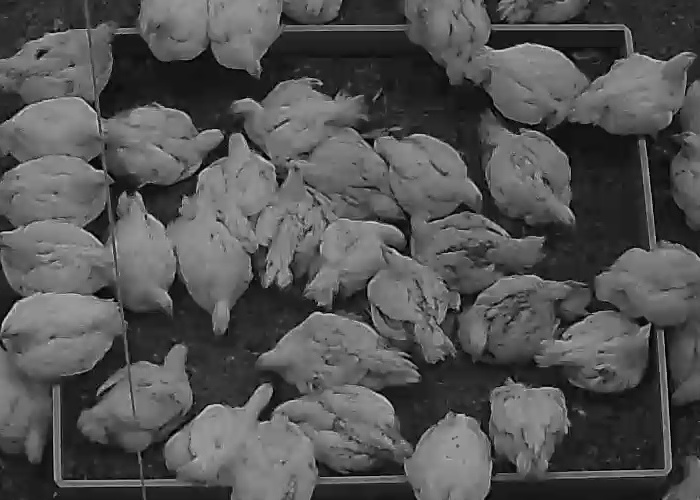chicken: (252, 308, 426, 406), (75, 340, 201, 459), (289, 120, 414, 229), (269, 383, 415, 476), (455, 273, 596, 368), (364, 241, 469, 367), (227, 76, 370, 168), (168, 192, 256, 341), (368, 128, 493, 232), (475, 109, 582, 230), (161, 381, 275, 486), (458, 40, 594, 127), (246, 161, 335, 292), (98, 190, 186, 322), (95, 102, 230, 188), (566, 50, 700, 135), (406, 213, 550, 292), (1, 289, 127, 379), (535, 309, 653, 396), (305, 215, 413, 310), (1, 20, 121, 101), (1, 88, 121, 169), (1, 149, 121, 230), (1, 215, 121, 296), (592, 240, 700, 328), (483, 379, 572, 479), (400, 413, 498, 500), (194, 130, 286, 222), (400, 1, 496, 87), (208, 1, 289, 81), (132, 1, 216, 66)
